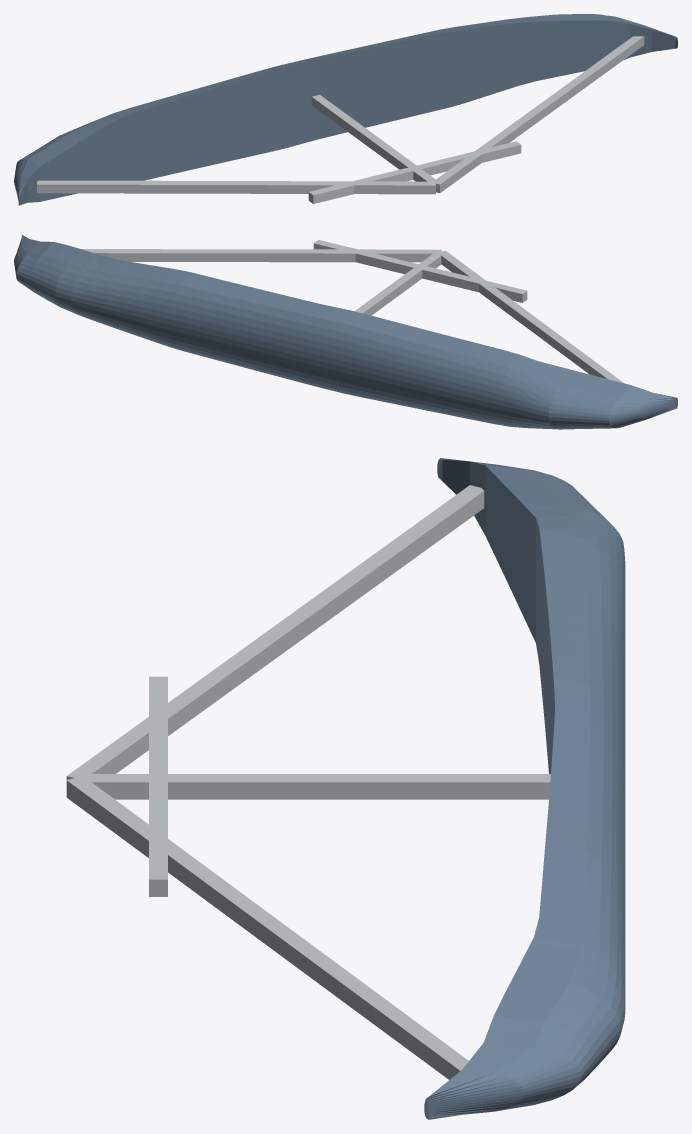
The model's file is loft-longship-slender.glb.
The picture shows the model from 3 angles, top to bottom: view 1: azimuth 30°, elevation 25°; view 2: azimuth 150°, elevation 25°; view 3: azimuth 270°, elevation 25°; orthographic projection. The views are drawn at different scales.
Visible parts, largest first — view 1: loft-longship-slender; view 2: loft-longship-slender; view 3: loft-longship-slender.
Boxes of the visible parts, x1,y1,x2,y2 form: loft-longship-slender: [14, 14, 677, 205]; loft-longship-slender: [14, 235, 677, 429]; loft-longship-slender: [66, 458, 625, 1119].
Bounding box in the file's own units: 1.89 × 0.2237 × 0.698.
